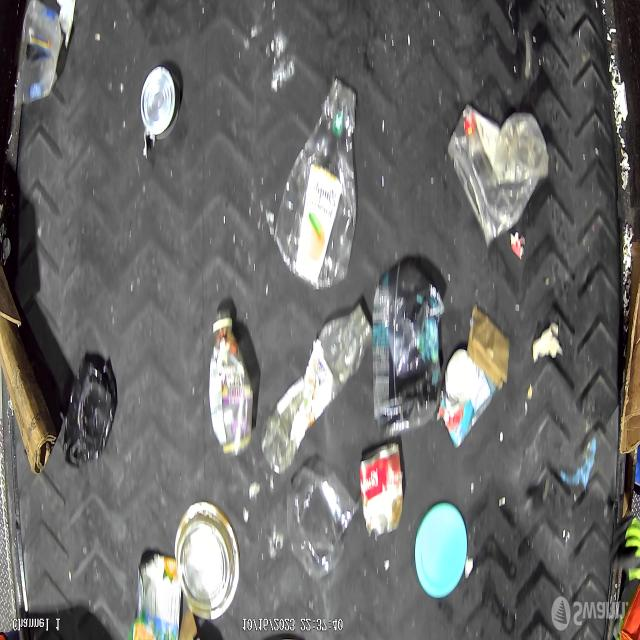can: (438, 346, 498, 450), (358, 439, 404, 538), (141, 64, 179, 139)
plastic_bottle: (268, 77, 359, 291), (259, 305, 369, 476)
